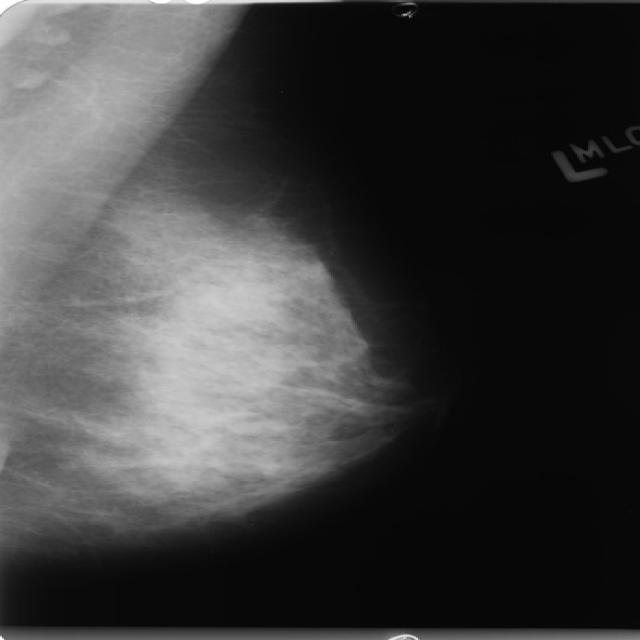tumour: (170, 282, 220, 318)
